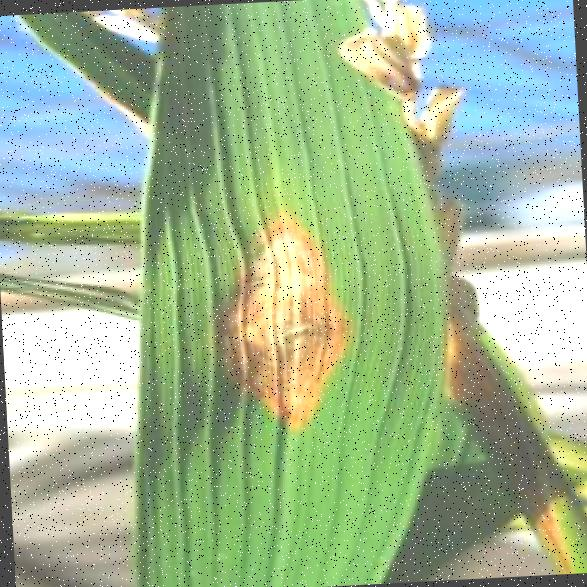Leaf_smut: (198, 188, 377, 484)
